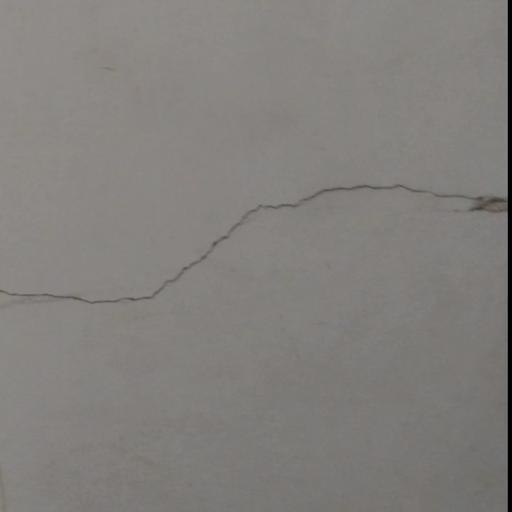minor_crack: (0, 169, 507, 311)
